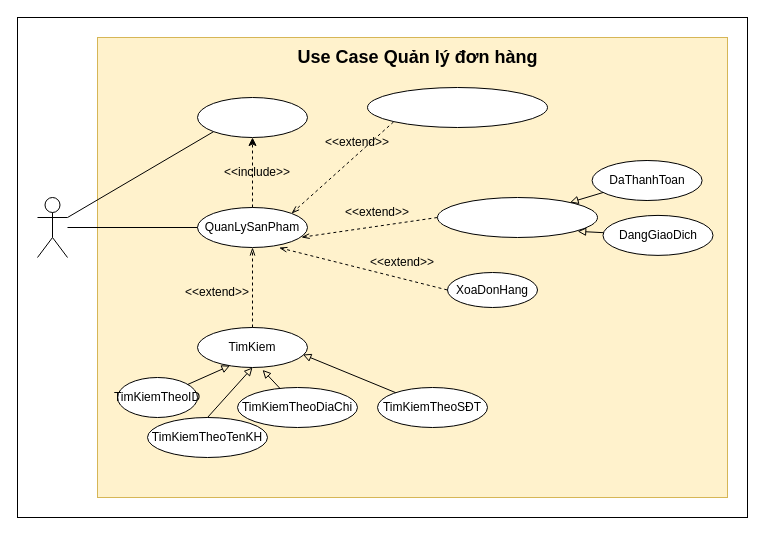
The diagram is 765 pixels wide and 535 high, and some of its shapes have lost their labels. The centre of each missing label's shape, as x and y in pixels:
CapNhatTrangThaiDonHang: (x=517, y=217)
DangNhap: (x=252, y=117)
NhanVien: (x=52, y=227)
XemDanhSachDonHang: (x=457, y=107)
